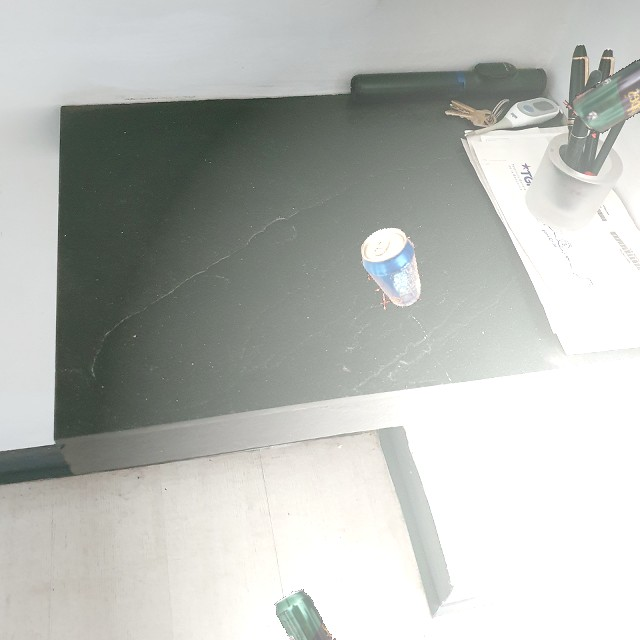pepsi: (361, 221, 423, 310)
schweppes: (561, 34, 640, 156), (273, 586, 336, 640)
